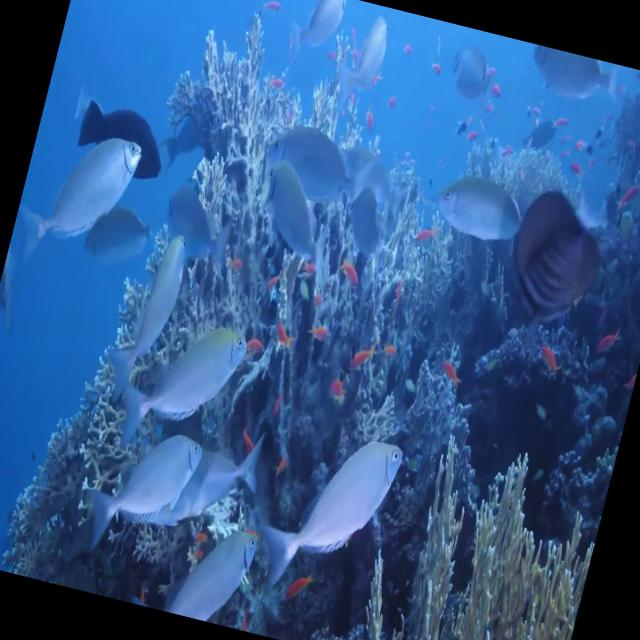fish: (96, 274, 276, 478), (241, 407, 412, 602), (0, 109, 144, 340), (68, 407, 212, 579), (98, 212, 196, 406), (156, 492, 274, 631), (247, 146, 364, 278), (249, 98, 386, 208), (421, 154, 533, 254), (66, 89, 176, 185), (178, 414, 272, 526), (319, 0, 398, 116), (74, 184, 169, 280), (516, 42, 624, 113), (275, 0, 355, 78), (440, 31, 508, 112), (590, 313, 640, 367), (434, 348, 468, 394), (535, 331, 567, 376), (348, 334, 378, 372)
